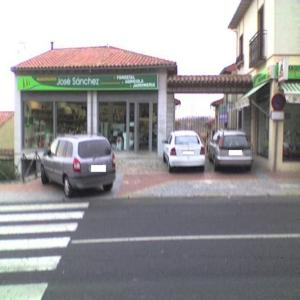Vehicle-registration-plate: (92, 166, 108, 172), (182, 152, 195, 156), (229, 152, 242, 156)
